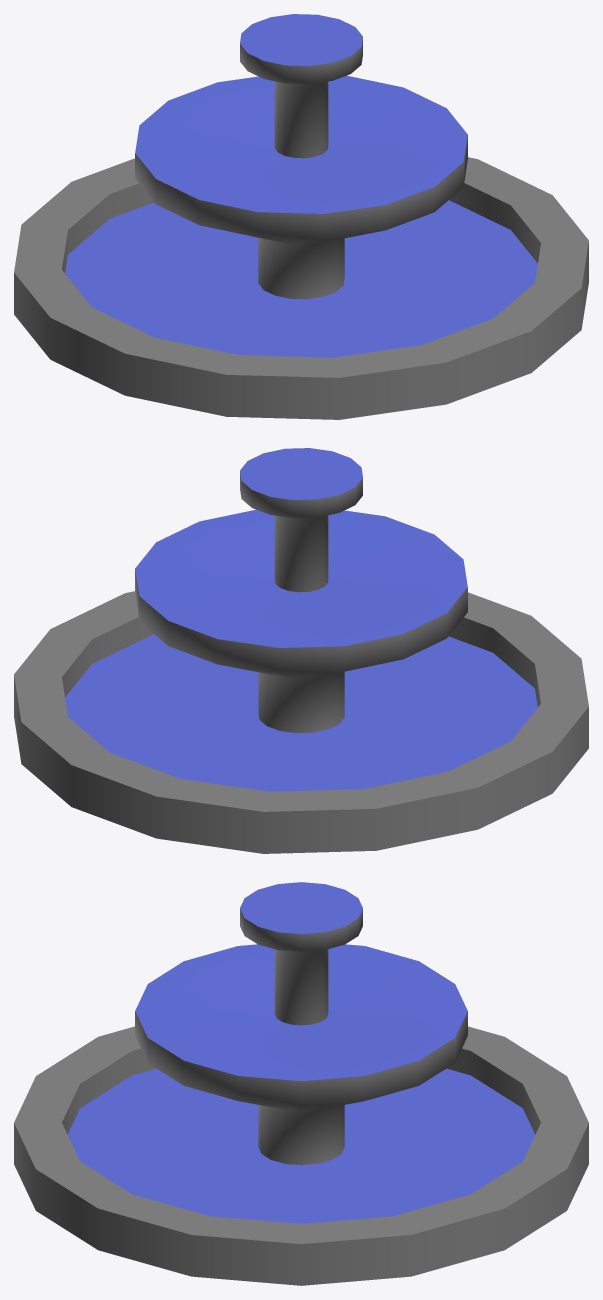
Rendered from Fountain.fbx.
The picture shows the model from 3 angles, top to bottom: view 1: azimuth 30°, elevation 25°; view 2: azimuth 150°, elevation 25°; view 3: azimuth 270°, elevation 25°; orthographic projection.
Visible parts, largest first — view 1: Cylinder; view 2: Cylinder; view 3: Cylinder.
Boxes of the visible parts, left/top/right/bottom form: Cylinder: left=14, top=14, right=588, bottom=419; Cylinder: left=14, top=448, right=588, bottom=853; Cylinder: left=14, top=882, right=588, bottom=1285.
Bounding box in the file's own units: 591 × 290 × 591.
